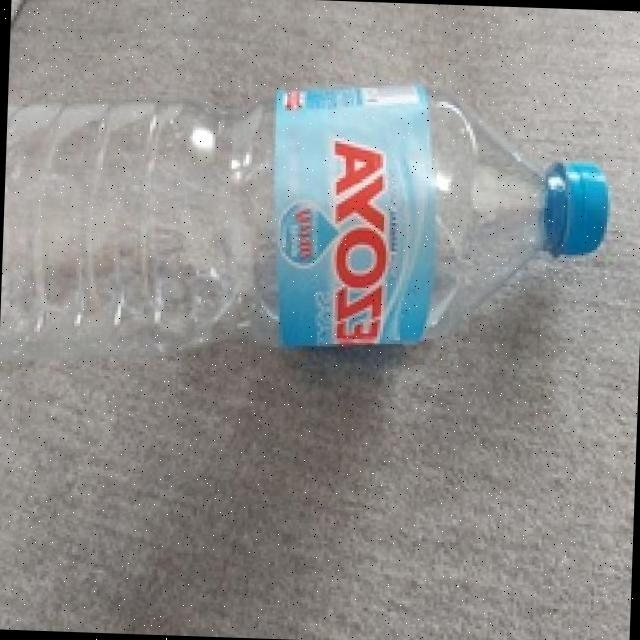bottle: (0, 64, 632, 394)
cap: (540, 156, 606, 258)
label: (266, 51, 430, 399)
